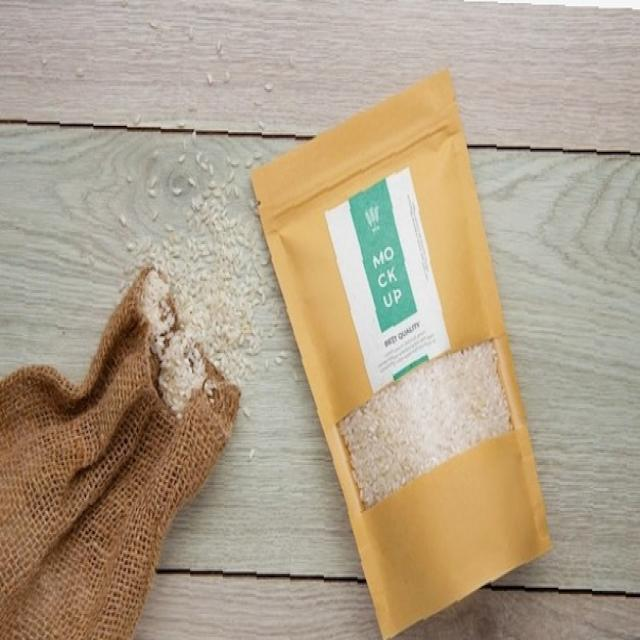rice package: (253, 73, 551, 636)
